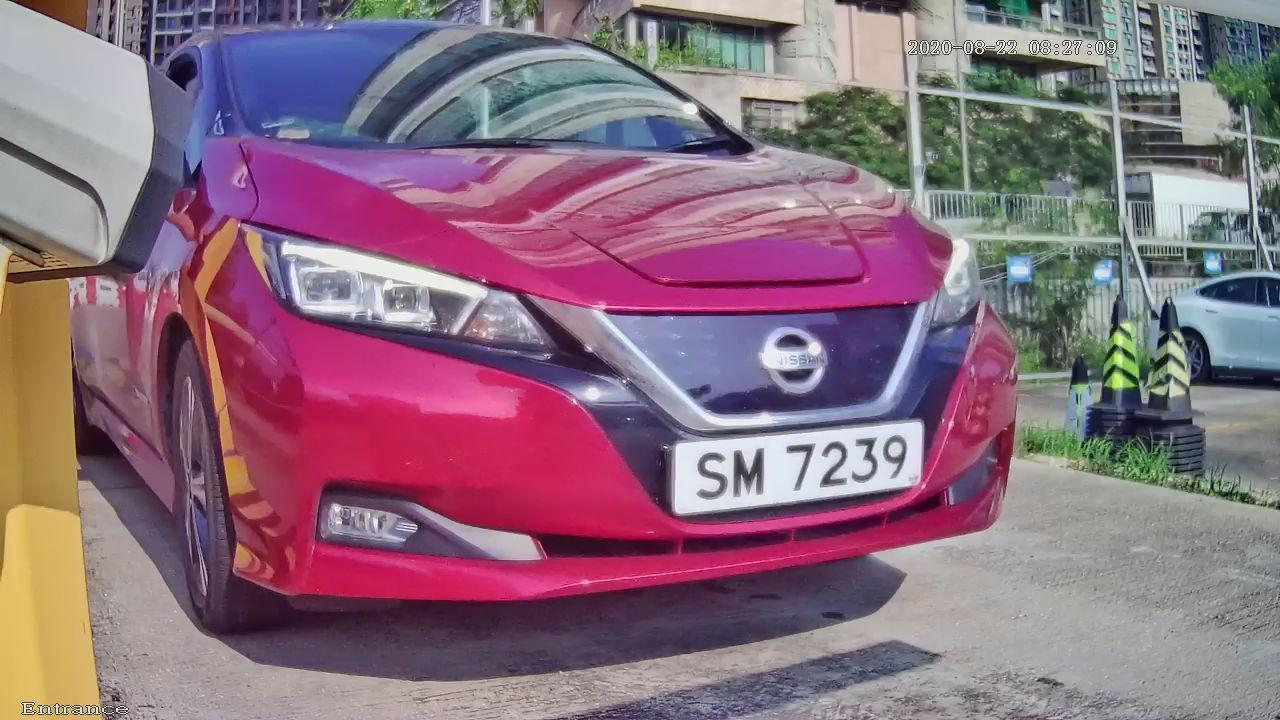Car: (63, 4, 1103, 688)
License Plate: (638, 393, 959, 536)
